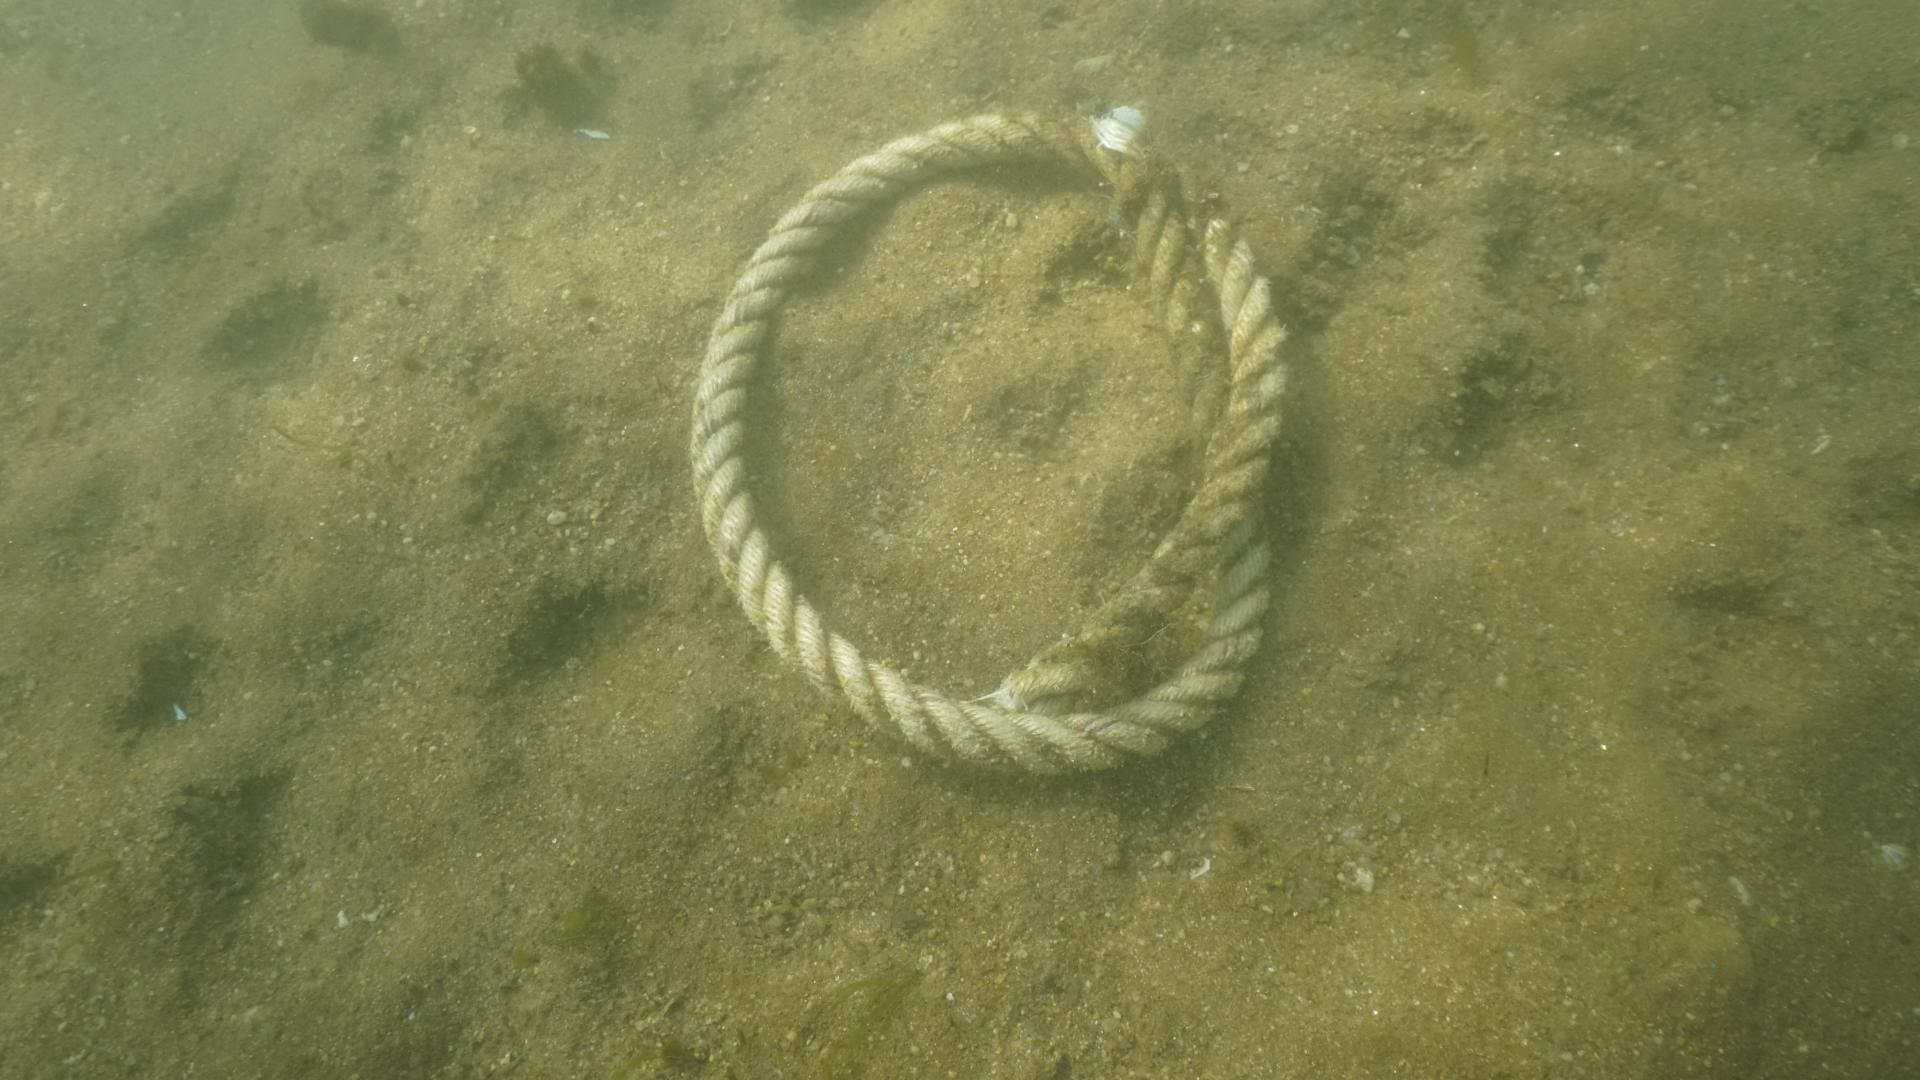bundle of ropes: (679, 102, 1300, 785)
